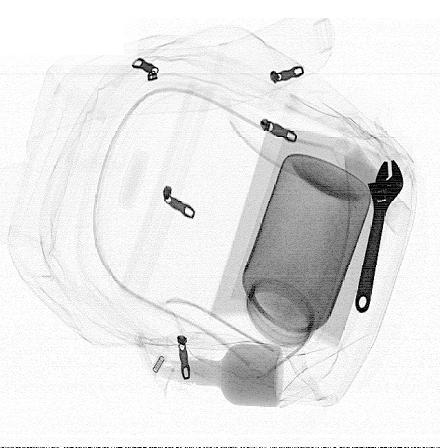Wrench: (354, 156, 404, 315)
